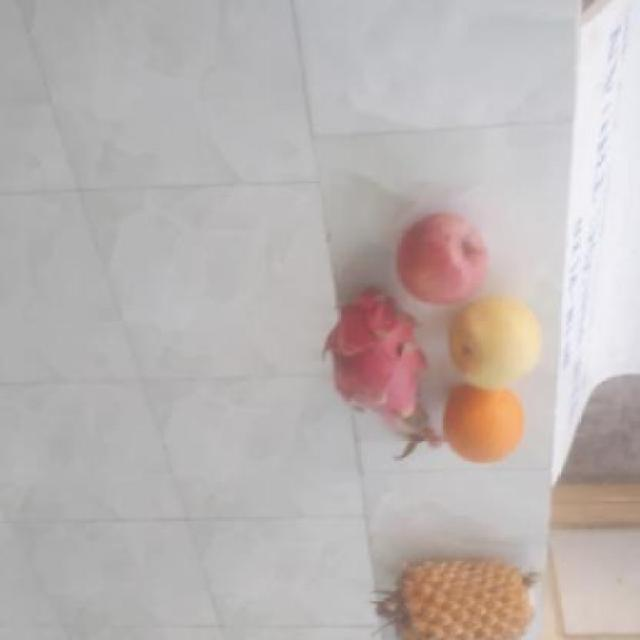apple: (399, 211, 493, 307)
dragon fruit: (325, 293, 443, 432)
pear: (442, 296, 547, 393)
pineapple: (387, 564, 538, 639)
